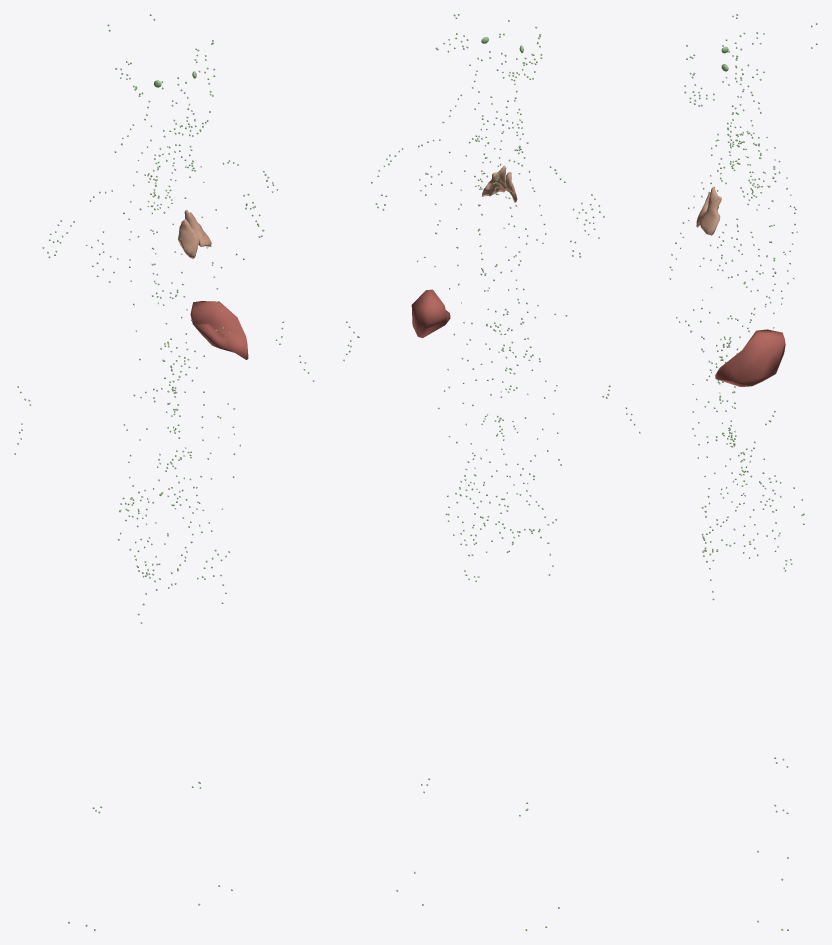
The model's file is adult_male.lymphatic.LOD3.glb.
3 renders of one model, left to right at view 1: azimuth 30°, elevation 25°; view 2: azimuth 150°, elevation 25°; view 3: azimuth 270°, elevation 25°, orthographic.
Visible parts, largest first — view 1: ADULT.MALE.LYMPHATIC.SPLEEN; view 2: ADULT.MALE.LYMPHATIC.SPLEEN; view 3: ADULT.MALE.LYMPHATIC.SPLEEN, ADULT.MALE.LYMPHATIC.LEFT_LOBE_OF_THYMUS.
Boxes of the visible parts, <box> form: ADULT.MALE.LYMPHATIC.SPLEEN: <box>190,301,248,359</box>; ADULT.MALE.LYMPHATIC.SPLEEN: <box>411,289,450,338</box>; ADULT.MALE.LYMPHATIC.SPLEEN: <box>715,329,785,386</box>; ADULT.MALE.LYMPHATIC.LEFT_LOBE_OF_THYMUS: <box>699,186,721,235</box>.
Size of the model in its own units: 0.4522 by 1.28 by 0.1965.
